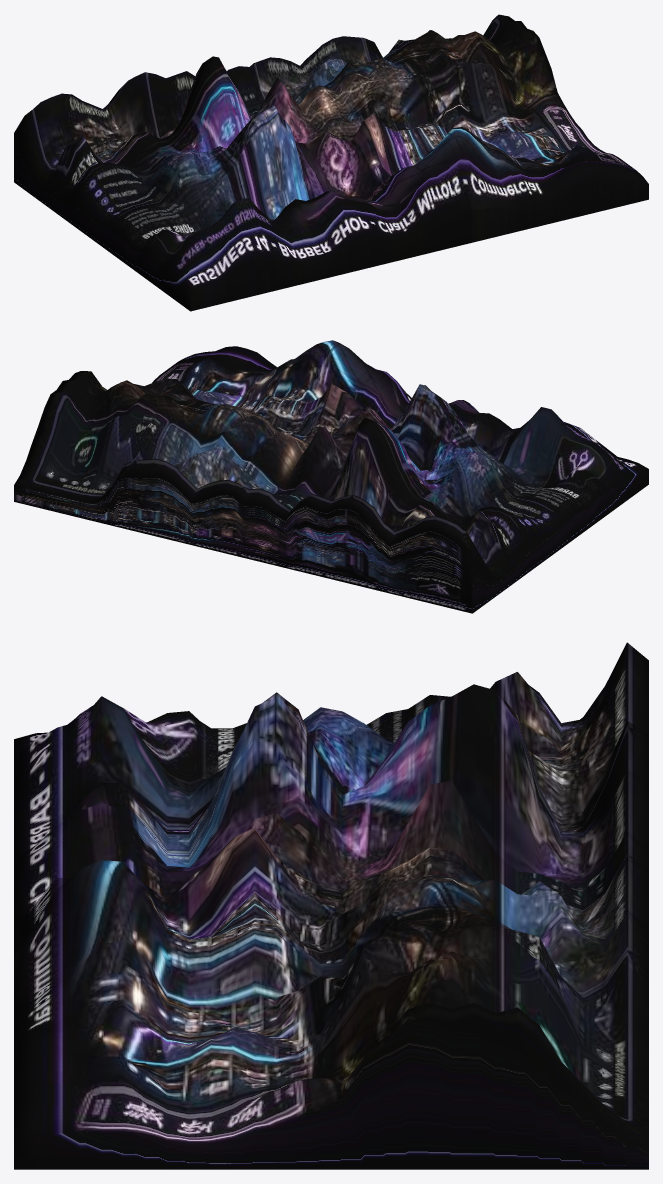
Rendered from BUSINESS_14_Barber_Shop.glb.
3 views of the same model, one above another, from view 1: azimuth 30°, elevation 25°; view 2: azimuth 150°, elevation 25°; view 3: azimuth 270°, elevation 25° (orthographic). The views are drawn at different scales.
Visible parts, largest first — view 1: BUSINESS_14_Barber_Shop; view 2: BUSINESS_14_Barber_Shop; view 3: BUSINESS_14_Barber_Shop.
Boxes of the visible parts, bbox=[...] form: BUSINESS_14_Barber_Shop: bbox=[14, 14, 648, 311]; BUSINESS_14_Barber_Shop: bbox=[14, 340, 648, 613]; BUSINESS_14_Barber_Shop: bbox=[14, 642, 648, 1169].
Bounding box in the file's own units: 2 × 0.51 × 1.33.
Materials: 1 (1 with a texture image).
